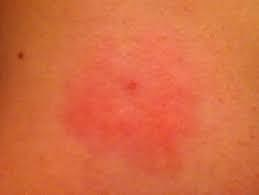Tick: (84, 58, 180, 153)
